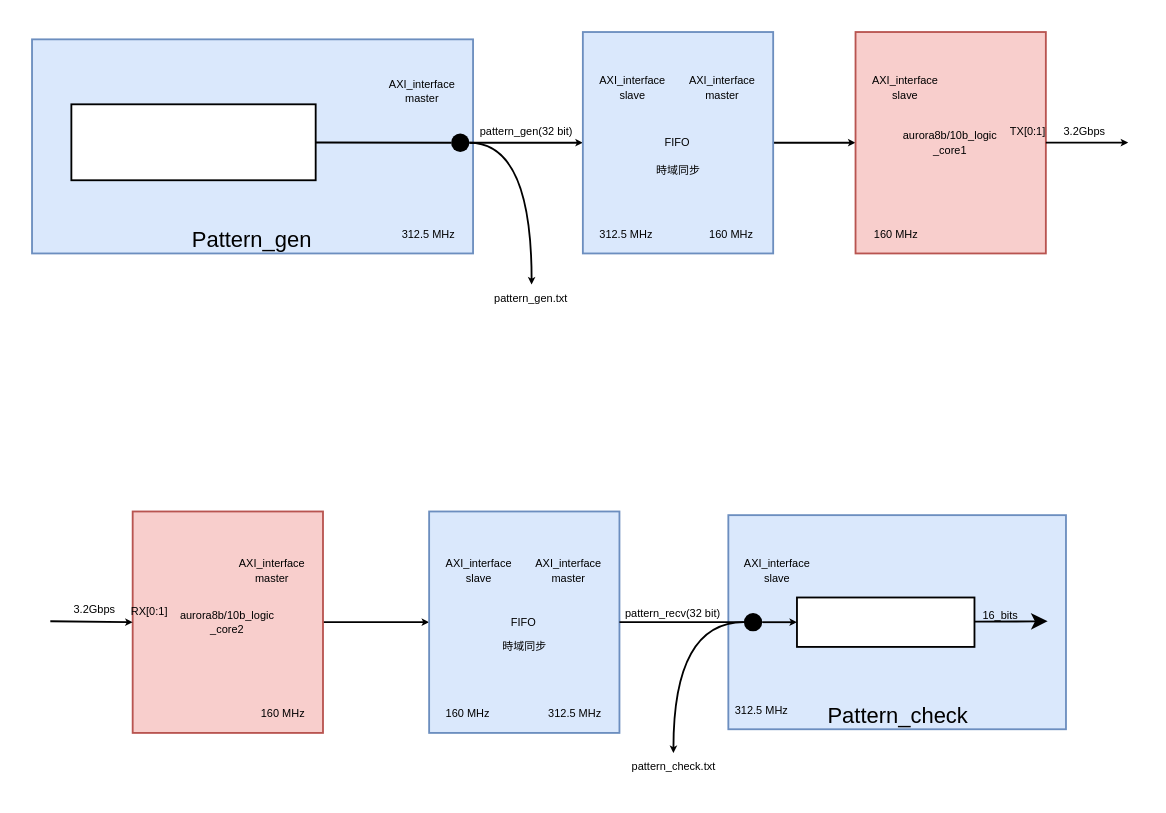
This 1166x813 diagram has some shape labels left out. The centre of each missing label's shape, as x and y in pixels:
Data_width_convertor: the point at 884,621
LFSR 16 bits data gen: the point at 193,141
